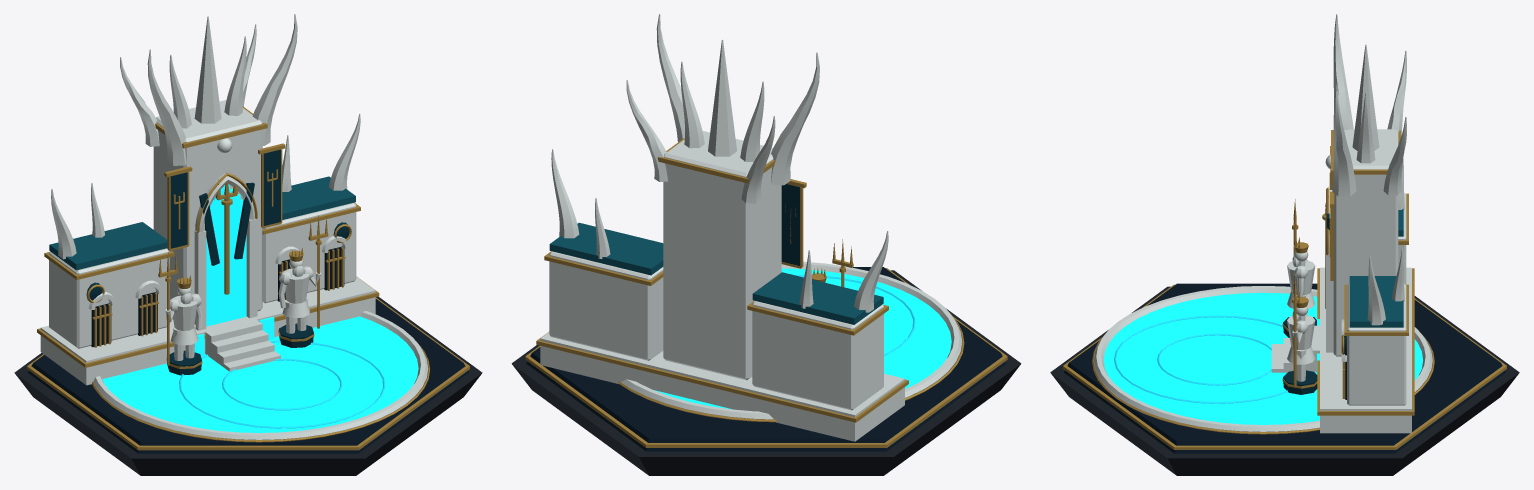
Rendered from poseidon_tutor_structure_2.glb.
The picture shows the model from 3 angles, left to right: view 1: azimuth 30°, elevation 25°; view 2: azimuth 150°, elevation 25°; view 3: azimuth 270°, elevation 25°; orthographic projection. The views are drawn at different scales.
Visible parts, largest first — view 1: poseidon_tutor_structure_2; view 2: poseidon_tutor_structure_2; view 3: poseidon_tutor_structure_2.
Part boxes in pixels (x1,y1,x2,y2): poseidon_tutor_structure_2: [14, 14, 482, 475]; poseidon_tutor_structure_2: [511, 14, 1021, 475]; poseidon_tutor_structure_2: [1050, 14, 1519, 475].
Bounding box in the file's own units: 1.51 × 1.44 × 1.74.
Materials: 1 (1 with a texture image).
